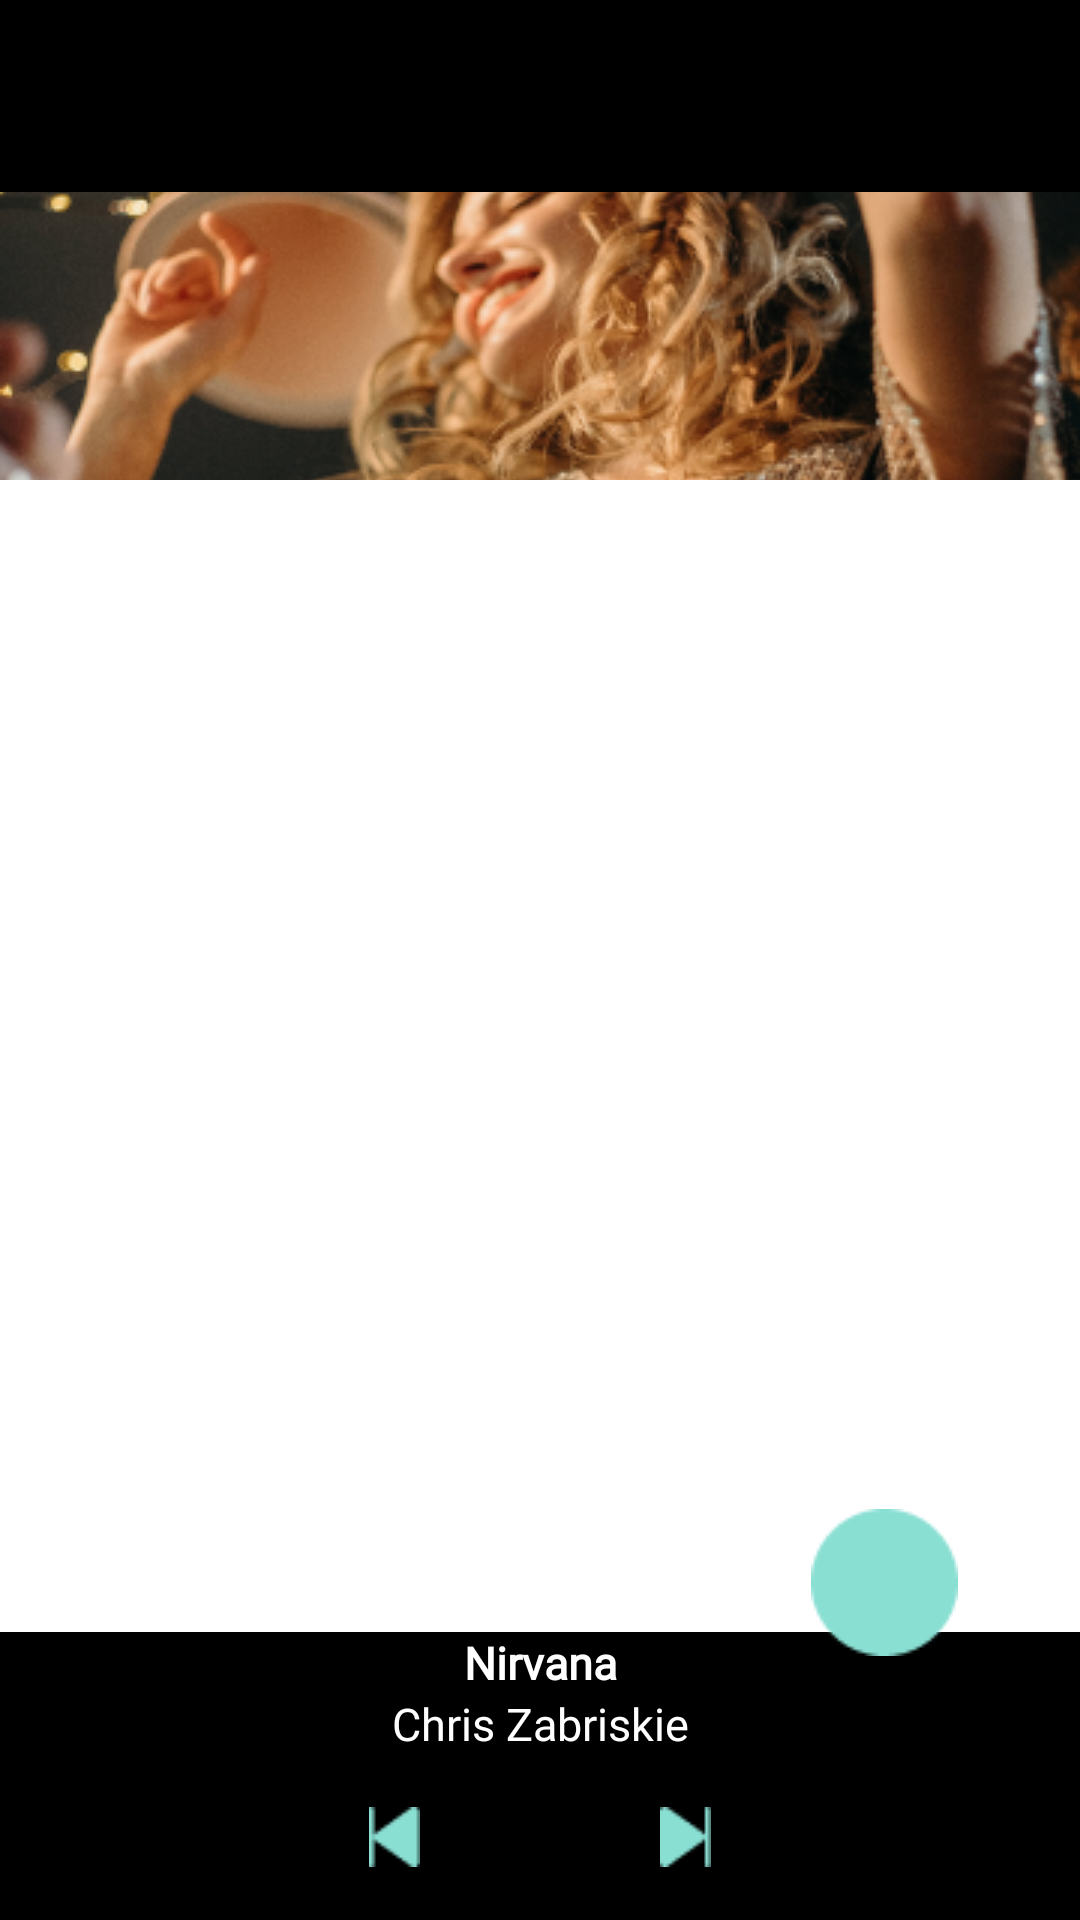

Icons on this 1080px x 1920px Android screen, each with the point to tap as (x=x, y=y):
atras: (x=394, y=1837)
siguiente: (x=685, y=1837)
